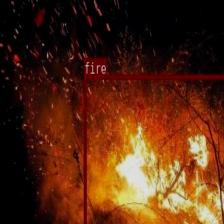fire: (83, 74, 223, 224)
